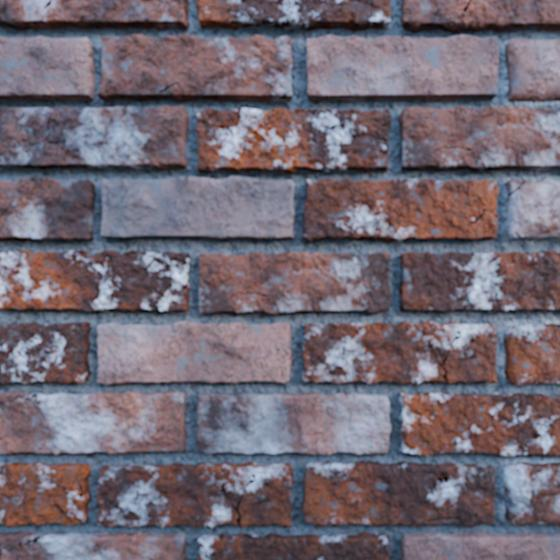brick: (97, 34, 292, 101), (96, 463, 292, 527), (307, 35, 497, 101), (302, 461, 494, 526), (197, 108, 390, 172), (302, 178, 497, 241), (101, 176, 293, 238), (0, 106, 188, 169), (97, 322, 290, 383), (303, 321, 496, 382), (199, 252, 389, 313), (197, 393, 390, 453), (0, 250, 189, 311), (0, 391, 185, 453), (399, 107, 559, 170), (400, 393, 559, 455), (399, 251, 559, 311), (0, 37, 95, 100), (197, 0, 390, 30), (0, 178, 94, 239), (0, 463, 89, 526), (0, 322, 90, 383), (0, 0, 188, 29), (0, 531, 185, 559), (198, 532, 389, 559), (402, 0, 559, 32), (401, 532, 559, 559), (472, 212, 497, 238), (0, 392, 32, 400)
broken_brick: (503, 461, 559, 526), (503, 323, 559, 385), (504, 38, 559, 101), (507, 180, 559, 240), (506, 179, 524, 193)
crack: (219, 473, 256, 527), (427, 330, 461, 383), (462, 196, 497, 239), (0, 535, 42, 557), (52, 503, 82, 524), (543, 272, 559, 305), (0, 393, 42, 405), (415, 516, 460, 527), (507, 180, 526, 196), (462, 0, 471, 13), (44, 0, 51, 9), (196, 409, 202, 416)
